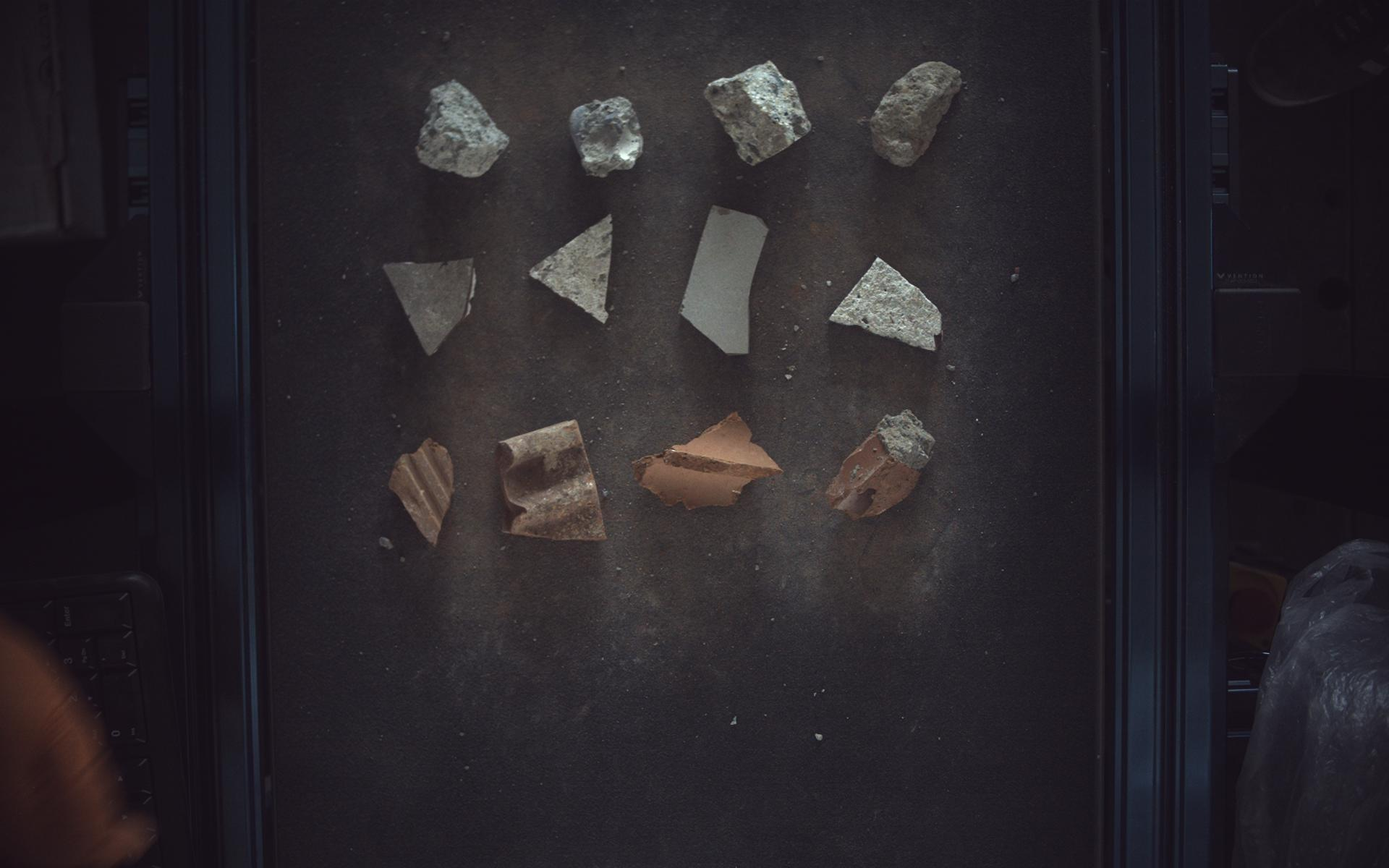brick: (633, 412, 783, 510), (496, 421, 606, 541), (827, 409, 936, 520), (388, 438, 454, 545)
concrete: (705, 59, 812, 164), (872, 61, 963, 166), (416, 79, 509, 176), (570, 95, 644, 176)
tile: (681, 205, 770, 354), (831, 258, 943, 351), (530, 213, 613, 323), (383, 258, 477, 355)
